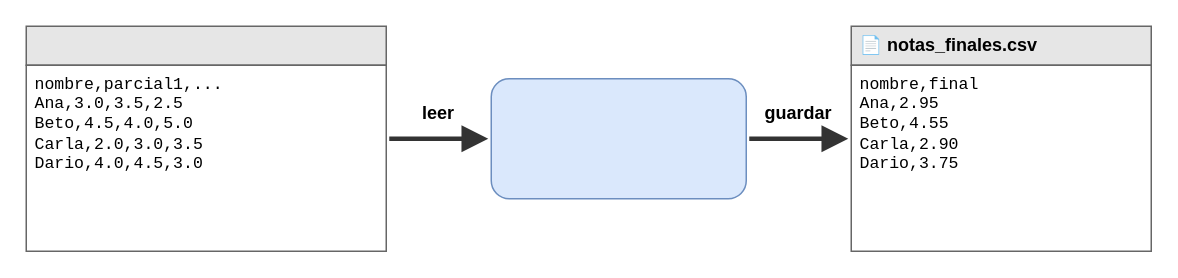
Some shapes in this 1178 by 278 pixel diagram are drawn without their labels. Here are the shapes that lost their labels. From the top down, the centre of each, then its label:
At (205,45): "📄 notas.csv".
At (618,138): "main.py calcula las notas finales".
